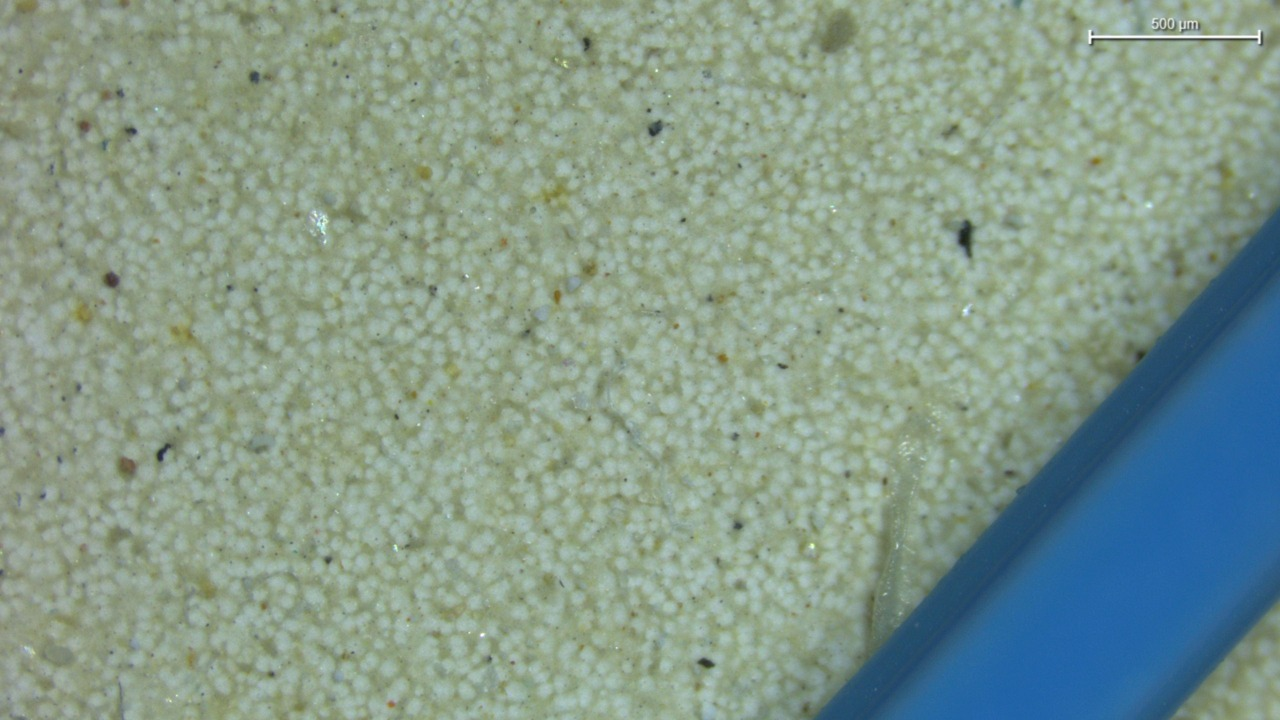microplastic_fragment: (533, 305, 550, 322), (568, 276, 582, 292)
